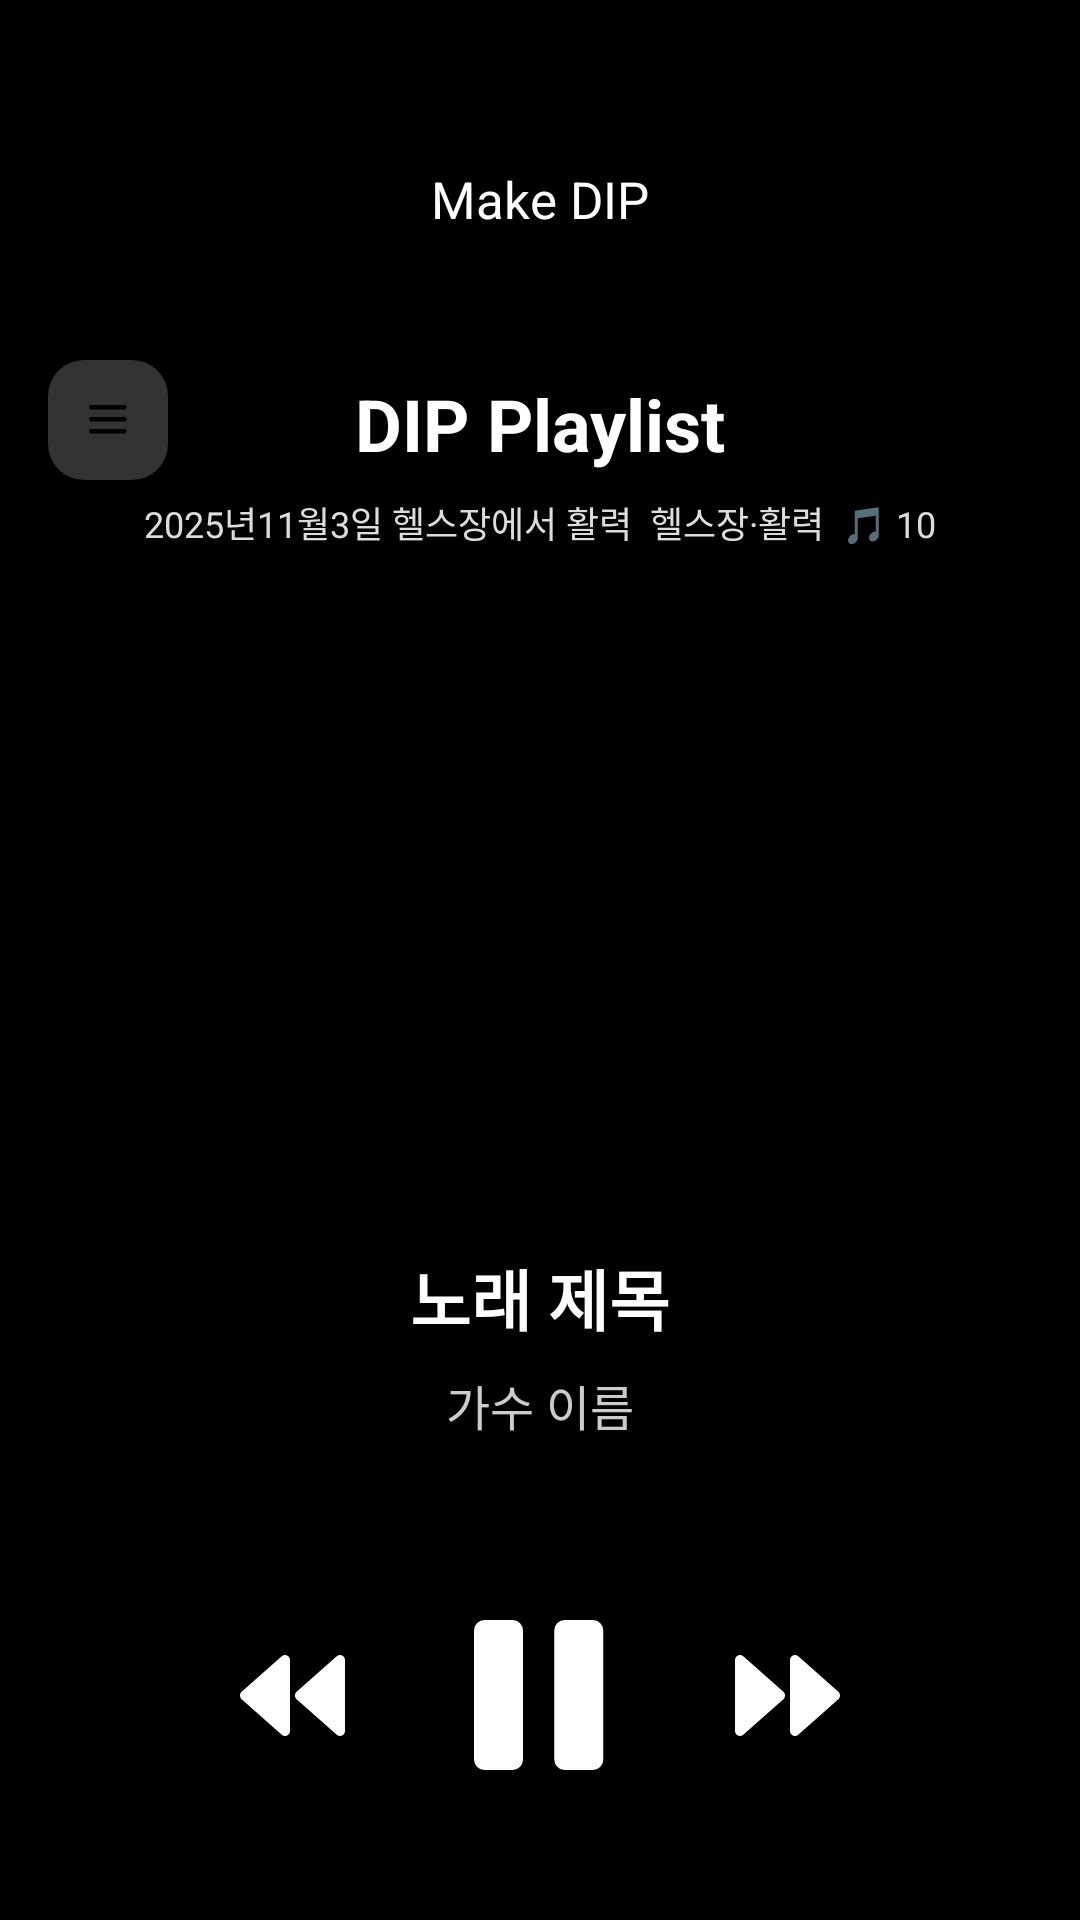

Screen size 1080 × 1920. Icon name, then its center in pixels as point (x, y):
next: point (787, 1695)
pause: point (539, 1695)
prev: point (292, 1695)
